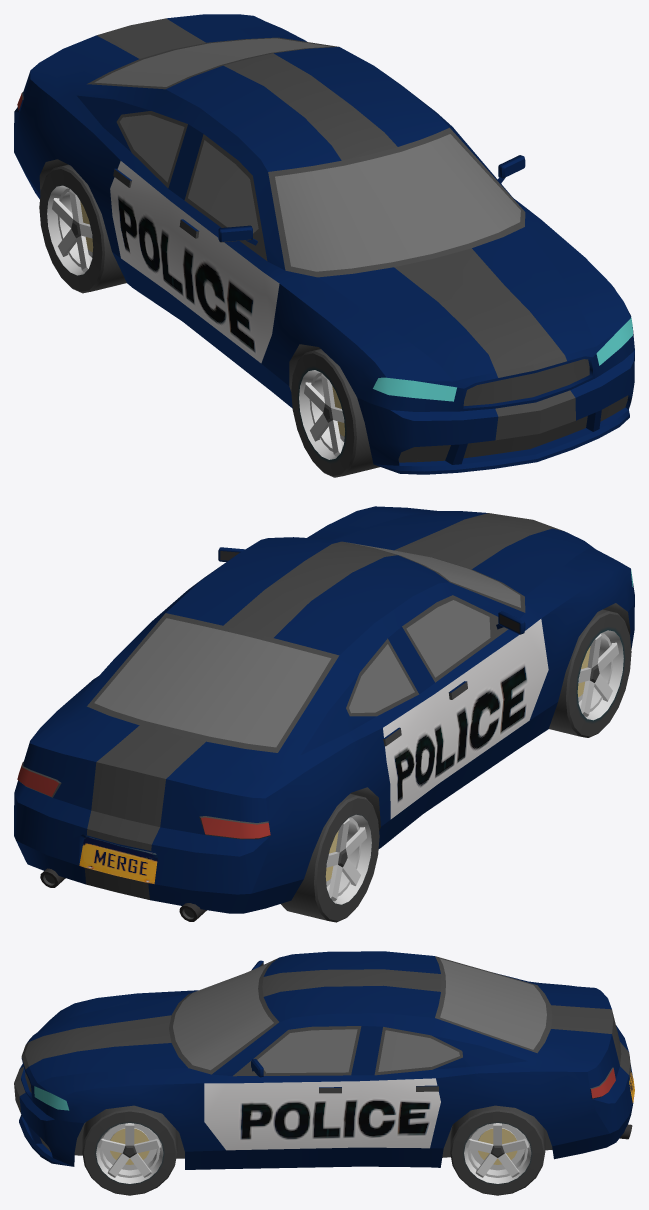
Rendered from PoliceNormal.fbx.
3 renders of one model, top to bottom at view 1: azimuth 30°, elevation 25°; view 2: azimuth 150°, elevation 25°; view 3: azimuth 270°, elevation 25°, orthographic. The views are drawn at different scales.
Parts seen in each view (by area): view 1: Body.001, FrontRightWheel.001, RearRightWheel; view 2: Body.001, RearRightWheel, FrontRightWheel.001; view 3: Body.001, RearLeftWheel.001, FrontLeftWheel.001.
Boxes of the visible parts, x1,y1,x2,y2 form: Body.001: (14, 14, 634, 474); FrontRightWheel.001: (291, 349, 379, 477); RearRightWheel: (39, 164, 126, 293); Body.001: (14, 506, 634, 921); RearRightWheel: (281, 793, 379, 922); FrontRightWheel.001: (549, 609, 631, 737); Body.001: (14, 951, 634, 1169); RearLeftWheel.001: (450, 1105, 545, 1195); FrontLeftWheel.001: (82, 1105, 177, 1195).
Bounding box in the file's own units: 202 × 147 × 488.
